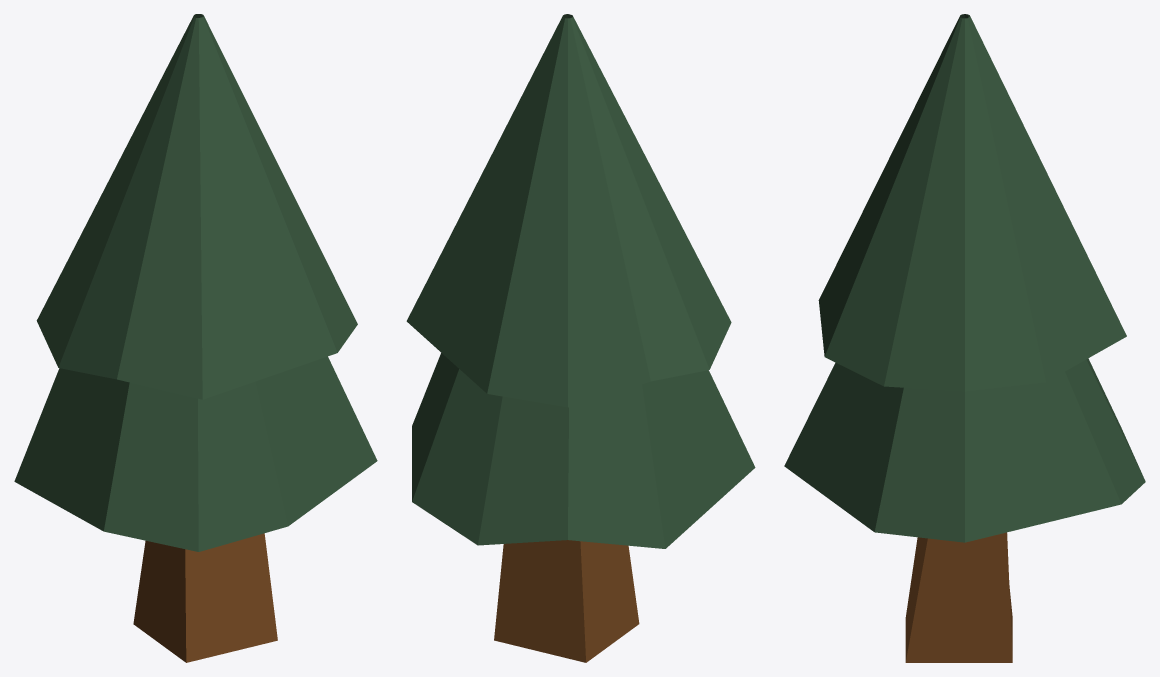
Rendered from fabz_pine_green.glb.
3 views of the same model, side by side, from view 1: azimuth 30°, elevation 25°; view 2: azimuth 150°, elevation 25°; view 3: azimuth 270°, elevation 25° (orthographic).
Visible parts, largest first — view 1: fabz_pine_green; view 2: fabz_pine_green; view 3: fabz_pine_green.
Boxes of the visible parts, x1,y1,x2,y2 form: fabz_pine_green: [14, 14, 377, 662]; fabz_pine_green: [406, 14, 755, 662]; fabz_pine_green: [784, 14, 1145, 662].
Bounding box in the file's own units: 0.6436 × 1.28 × 0.6744.
